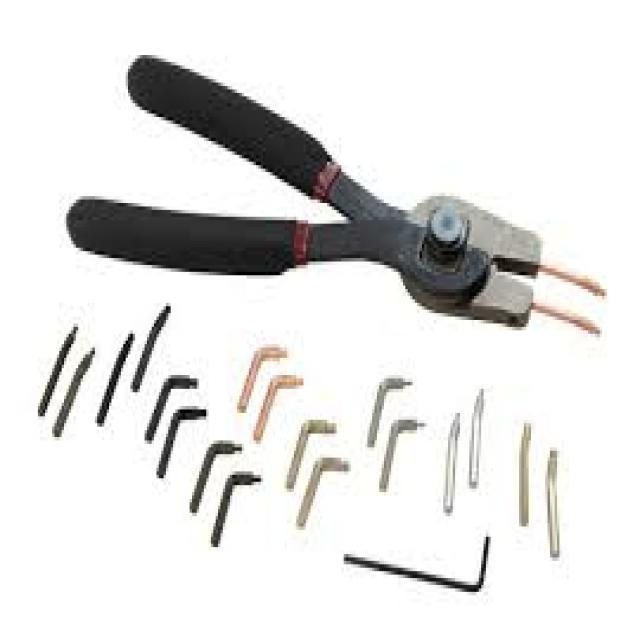pliers: (46, 35, 546, 338)
